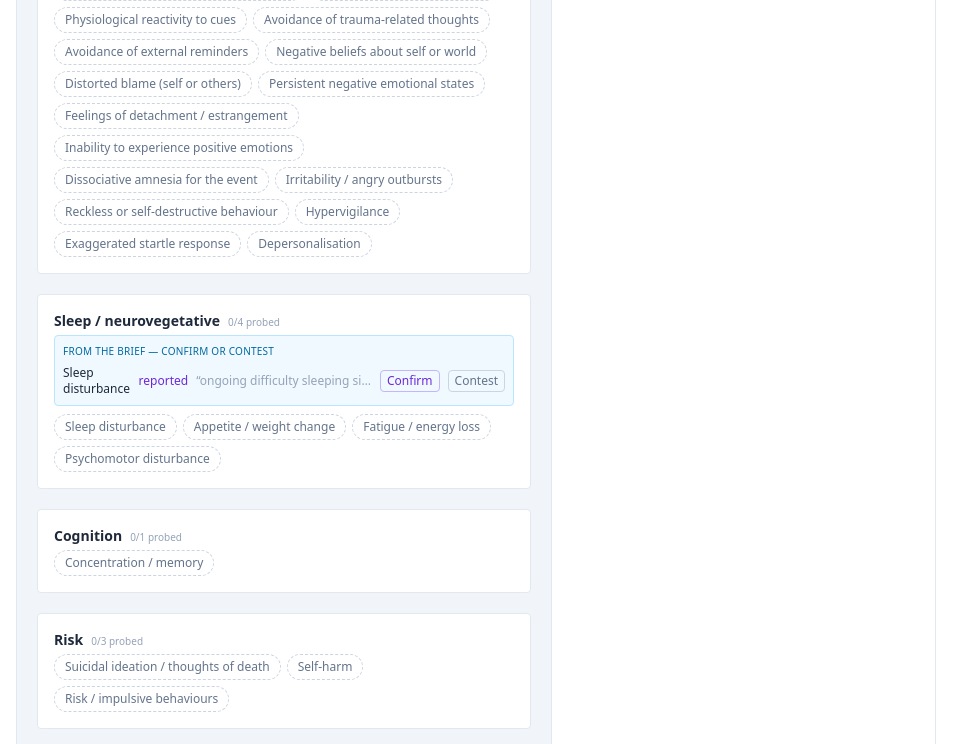
Test: LiveAssessmentPage — template-driven interview canvas › confirms a brief candidate inline → ticks the probe; routes diagnoses to the queue
(page scrolled)
Check: the text "Sleep disturbance" is shown, box [63,365,131,397]
Click the button "Confirm" at (410, 381), box [380,370,440,392]
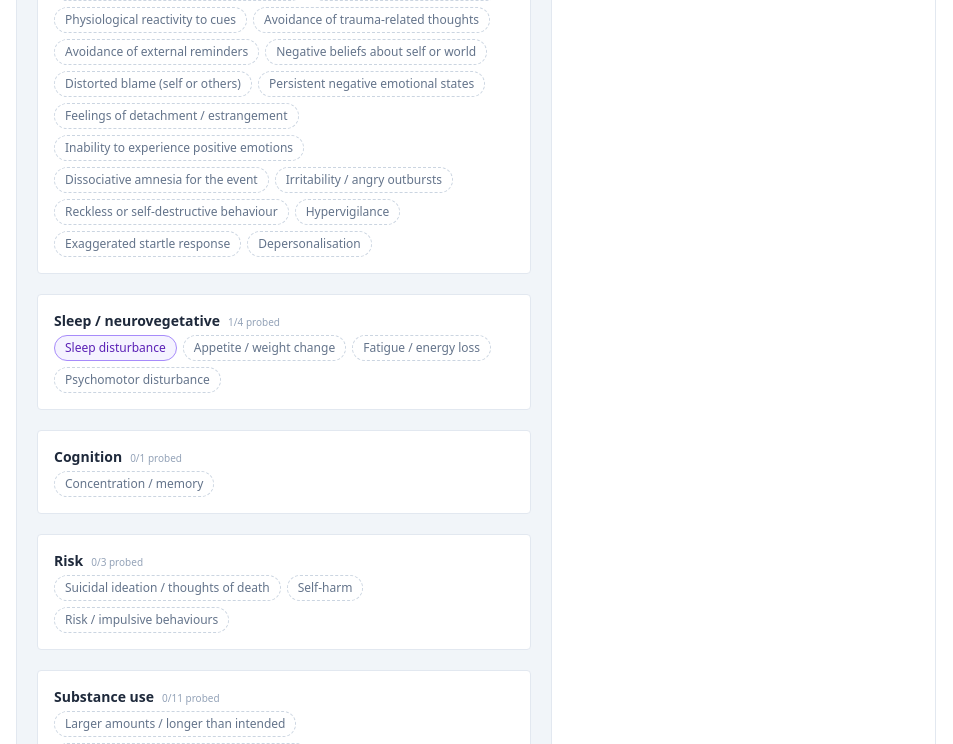
Check: the element with test id "brief-sx-neuroveg" is gone
